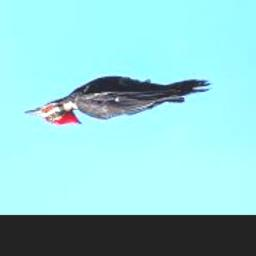Woodpecker: (26, 76, 212, 127)
